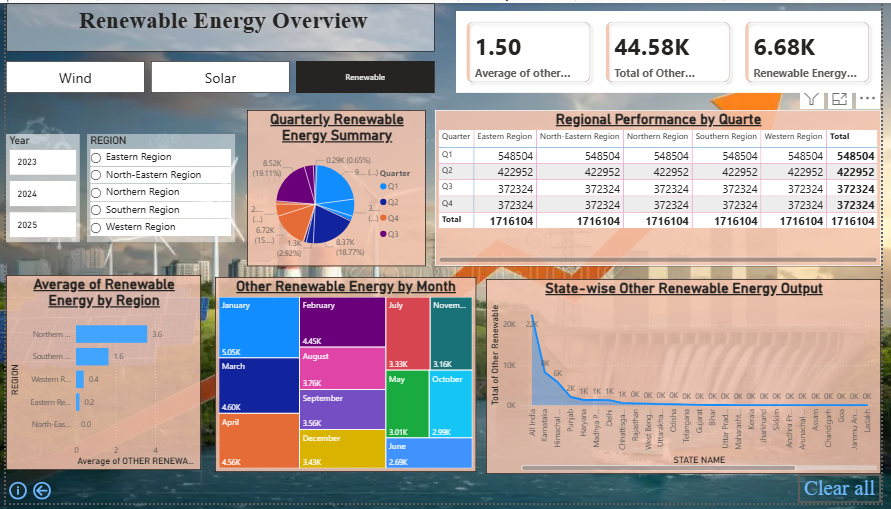

The dashboard page shown, as its layout file describes it:
{"tool":"powerbi","page":{"name":"Renewable ","canvas":[1400,800],"ordinal":6},"visuals":[{"type":"barChart","title":"Average of Renewable Energy by Region","fields":{"Category":["daily enery resource.REGION"],"Y":["Avg(daily enery resource.OTHER RENEWABLE ENERGY)"]},"box":[0,435.2,312,312],"z":0},{"type":"areaChart","title":"State-wise Other Renewable Energy Output","fields":{"Category":["daily enery resource.STATE NAME"],"Y":["other renewable measures.Other Renewable"]},"box":[768,441.6,632,312],"z":1000},{"type":"treemap","title":" Other Renewable Energy by Month ","fields":{"Group":["Calendar.Month Name"],"Values":["other renewable measures.Other Renewable"]},"box":[334.4,438.4,417.6,312],"z":2000},{"type":"pieChart","title":"Quarterly Renewable Energy Summary","fields":{"Category":["Calendar.Quarter"],"Y":["other renewable measures.Eastern Region of other renewable energy","other renewable measures.North-Eastern Region of other renewable energy","other renewable measures.Northern Region of other renewable energy","other renewable measures.Southern Region of other renewable energy","other renewable measures.Western Region of other renewable energy"]},"box":[385.6,171.2,286.4,249.6],"z":3000},{"type":"pivotTable","title":"Regional Performance by Quarte","fields":{"Rows":["Calendar.Quarter"],"Values":["Sum(Calendar.Year)"],"Columns":["daily enery resource.REGION"]},"box":[686.4,171.2,713.6,249.6],"z":4000},{"type":"textbox","box":[0,0,686.4,78.4],"z":5000},{"type":"actionButton","box":[1267.2,753.6,132.8,46.4],"z":6000},{"type":"actionButton","box":[0,760,38.4,40],"z":7000},{"type":"actionButton","box":[38.4,760,38.4,40],"z":8000},{"type":"advancedSlicerVisual","fields":{"Values":["Calendar.Year"]},"box":[0,209.6,118.4,172.8],"z":9000},{"type":"pageNavigator","box":[0,92.8,686.4,51.2],"z":10000},{"type":"cardVisual","fields":{"Data":["other renewable measures.Average of other renewable","other renewable measures.Total of Other Renewable","other renewable measures.Renewable YTD"]},"box":[720,12.8,680,131.2],"z":11000},{"type":"listSlicer","fields":{"Values":["Daily Energy Generation.REGION"]},"box":[129.6,209.6,236.8,172.8],"z":12000}]}

Visuals, with their boxes in screenshot pixels (x1, y1, x2, y2), scaled from the page's 1400x800 canvas onto the 891x509 screenshot:
"Average of Renewable Energy by Region" barChart: (0, 277, 199, 475)
"State-wise Other Renewable Energy Output" areaChart: (489, 281, 890, 479)
" Other Renewable Energy by Month " treemap: (213, 279, 479, 477)
"Quarterly Renewable Energy Summary" pieChart: (245, 109, 428, 268)
"Regional Performance by Quarte" pivotTable: (437, 109, 890, 268)
textbox: (0, 0, 437, 50)
actionButton: (806, 479, 890, 508)
actionButton: (0, 484, 24, 508)
actionButton: (24, 484, 49, 508)
advancedSlicerVisual - Calendar.Year: (0, 133, 75, 243)
pageNavigator: (0, 59, 437, 92)
cardVisual - other renewable measures.Average of other renewable x other renewable measures.Total of Other Renewable: (458, 8, 890, 92)
listSlicer - Daily Energy Generation.REGION: (82, 133, 233, 243)
